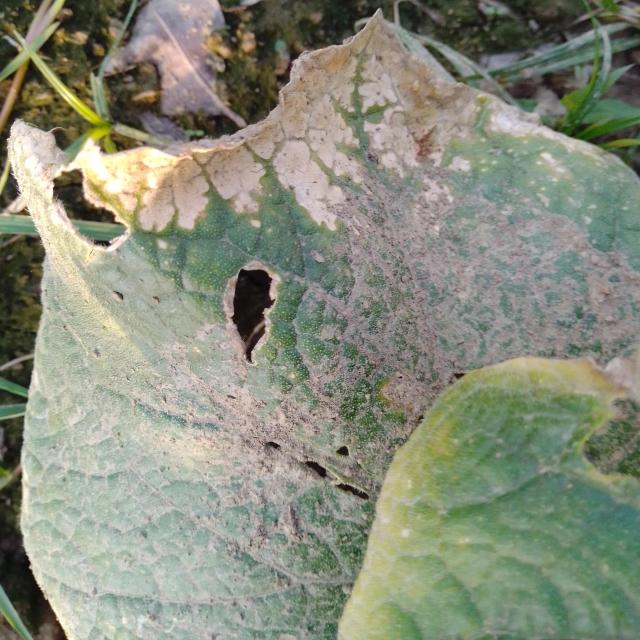cucumber_gummy: (5, 3, 640, 640)
